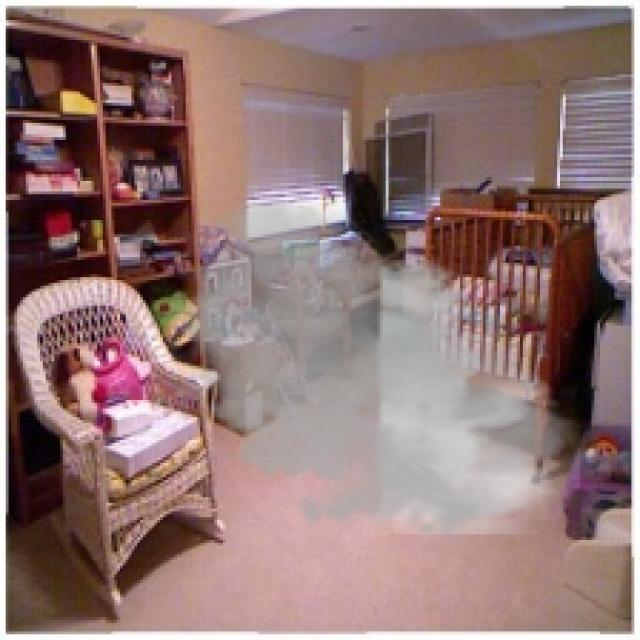smoke: (157, 192, 580, 548)
